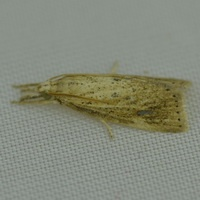insect: (12, 73, 191, 139)
